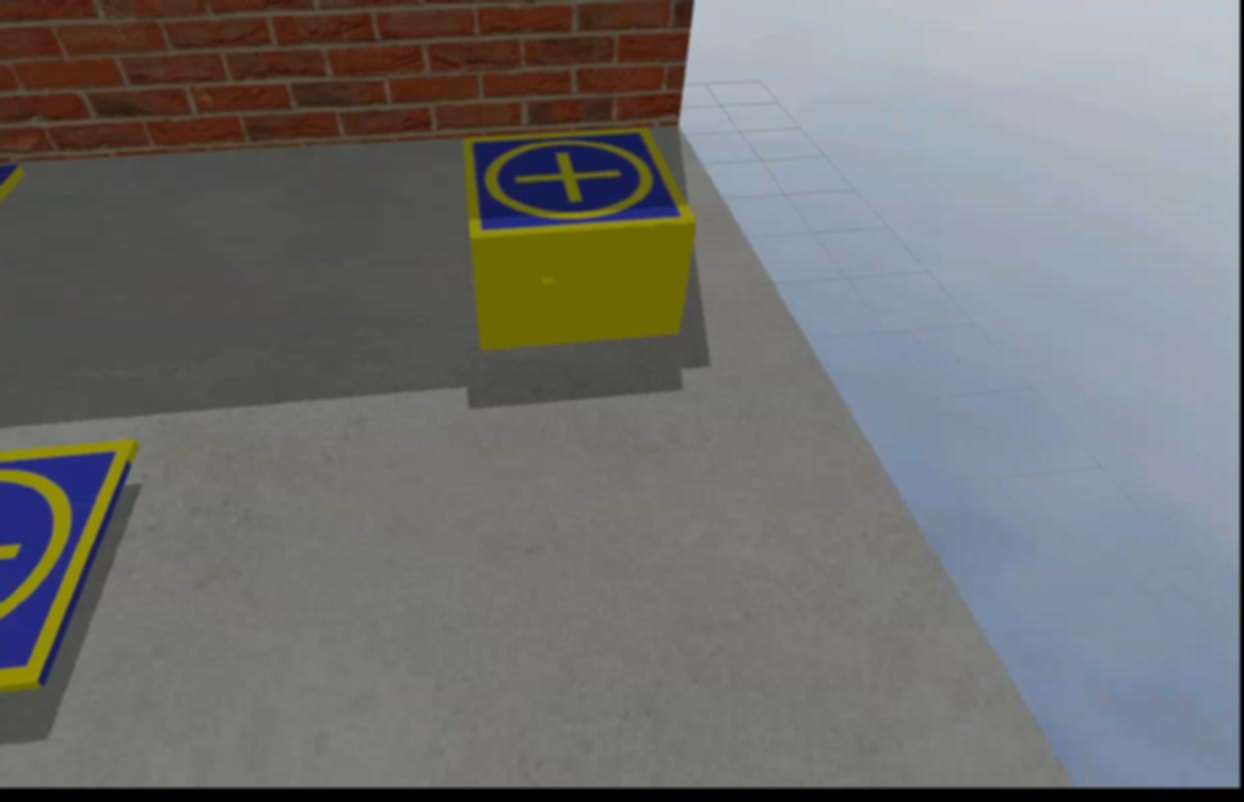small_base: (0, 441, 139, 695), (462, 129, 698, 247)
